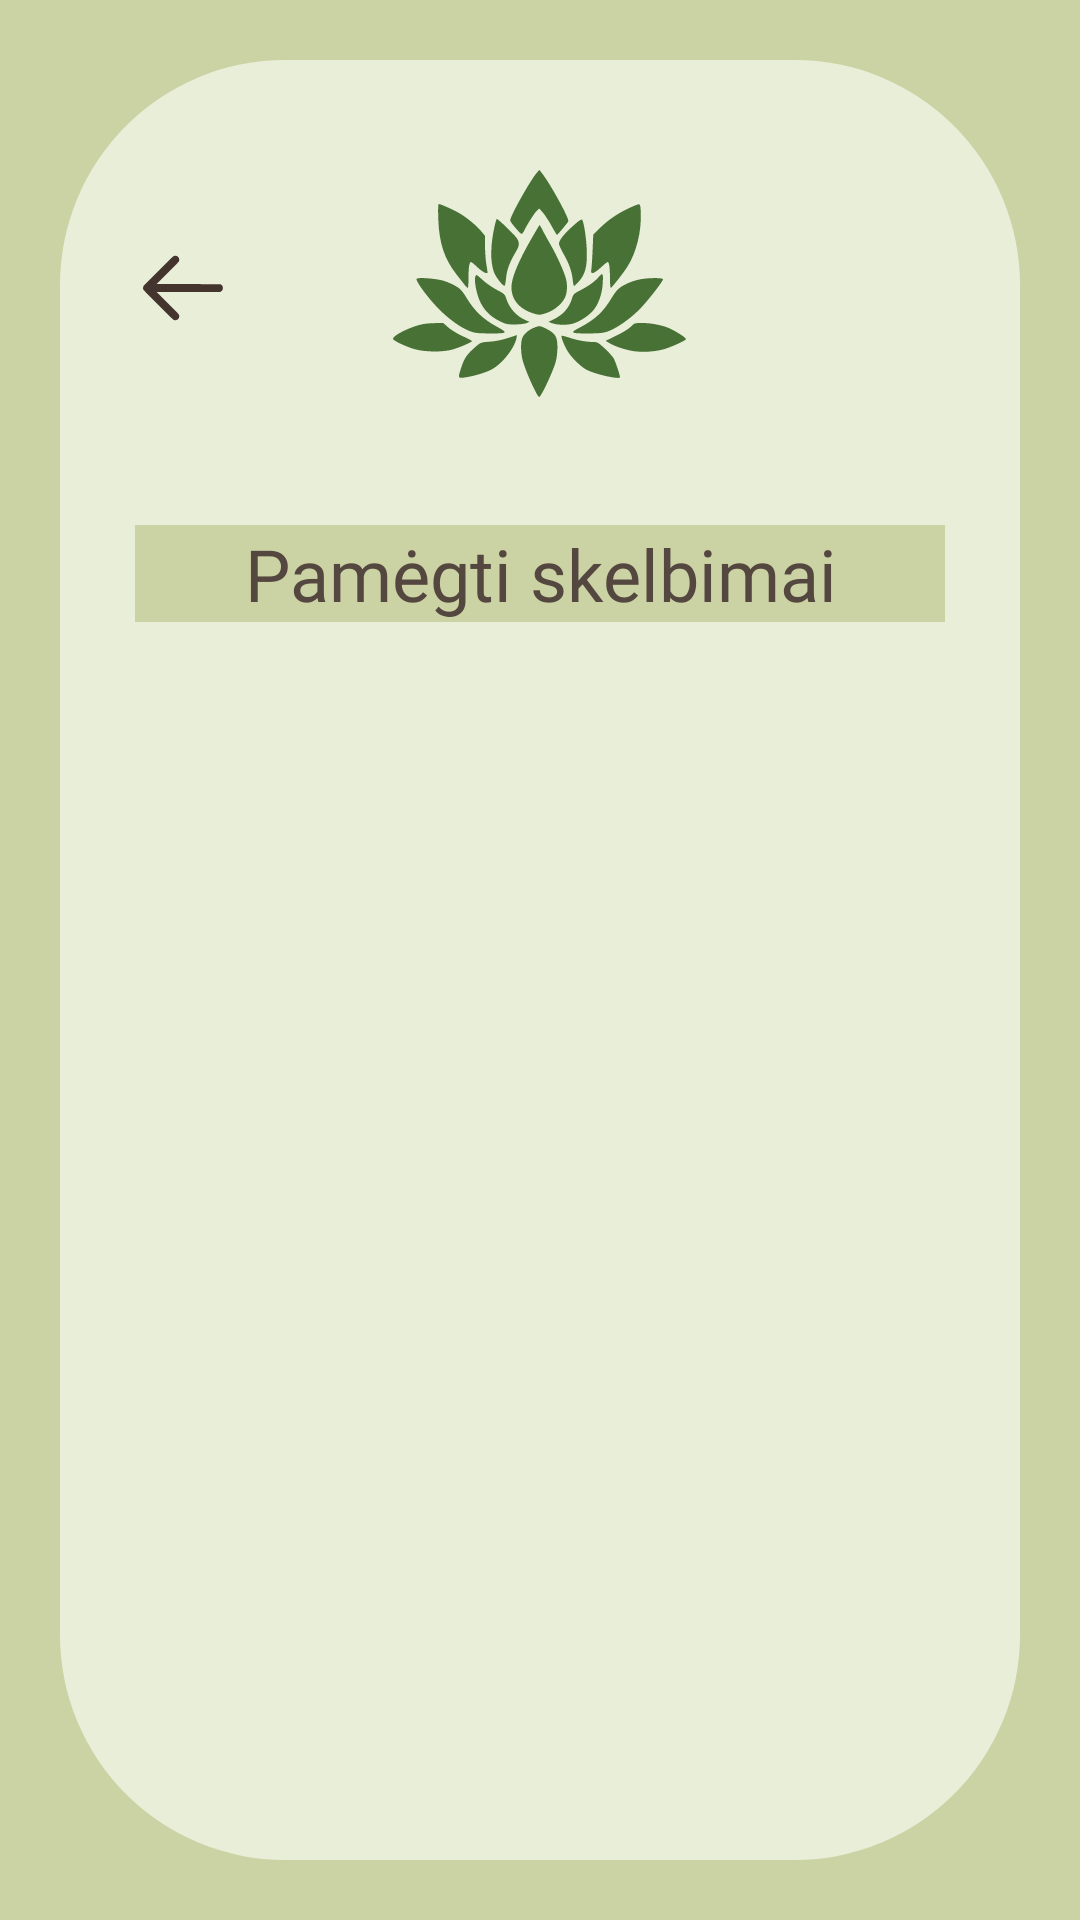

Named icons in this screenshot (1080x1920) and their bounding boxes, detection(x1, y1, x2, y2):
lotus: detection(393, 170, 686, 397)
